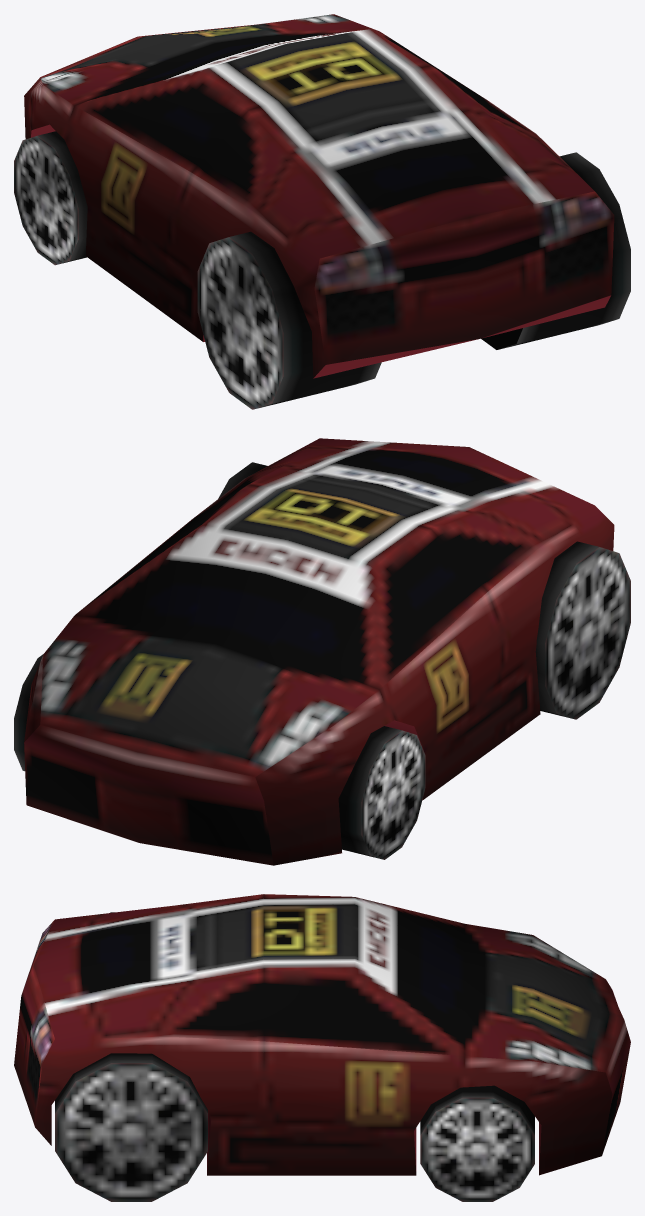
Rendered from static.ico.obj.
3 views of the same model, one above another, from view 1: azimuth 30°, elevation 25°; view 2: azimuth 150°, elevation 25°; view 3: azimuth 270°, elevation 25° (orthographic). The views are drawn at different scales.
Size of the model in its own units: 2.7 by 1.66 by 4.67.
1 material, 1 textured.
